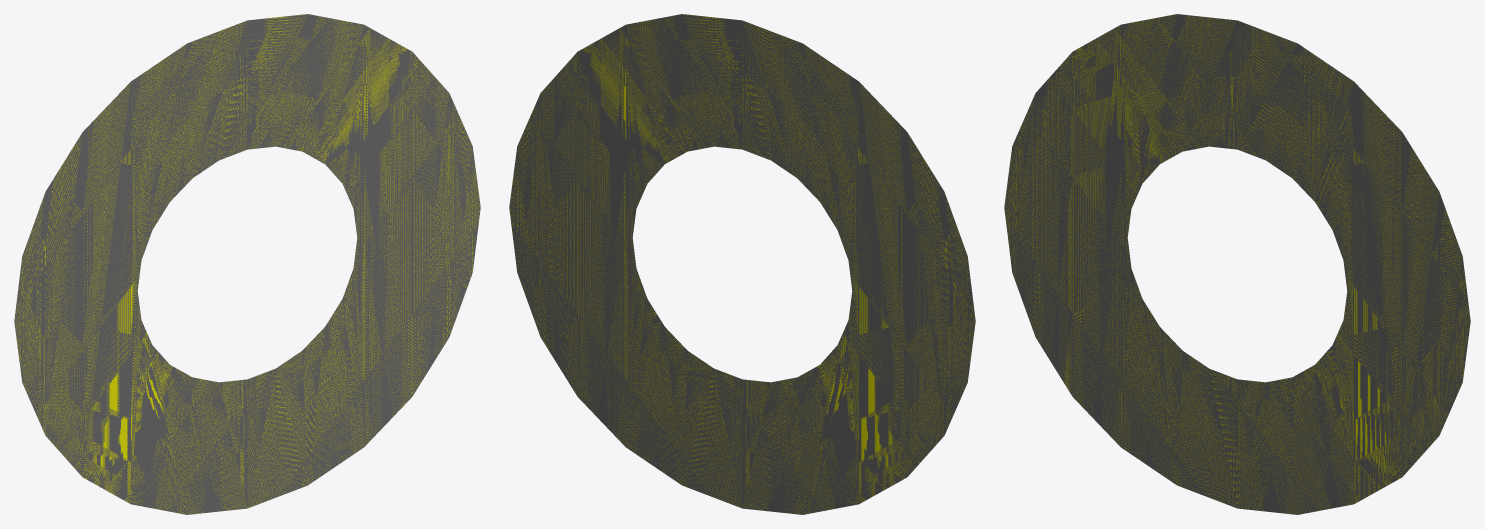
File: original-51.obj
The picture shows the model from 3 angles, left to right: view 1: azimuth 30°, elevation 25°; view 2: azimuth 150°, elevation 25°; view 3: azimuth 330°, elevation 25°; orthographic projection.
Visible parts, largest first — view 1: mesh20/mesh20-geometry/material_3/component_0#mesh20-geometry; view 2: mesh20/mesh20-geometry/material_3/component_0#mesh20-geometry; view 3: mesh20/mesh20-geometry/material_3/component_0#mesh20-geometry.
Boxes of the visible parts, x1,y1,x2,y2 form: mesh20/mesh20-geometry/material_3/component_0#mesh20-geometry: (14, 14, 480, 514); mesh20/mesh20-geometry/material_3/component_0#mesh20-geometry: (509, 14, 975, 514); mesh20/mesh20-geometry/material_3/component_0#mesh20-geometry: (1004, 14, 1470, 514).
Size of the model in its own units: 0.0687 by 0.0687 by 0.
